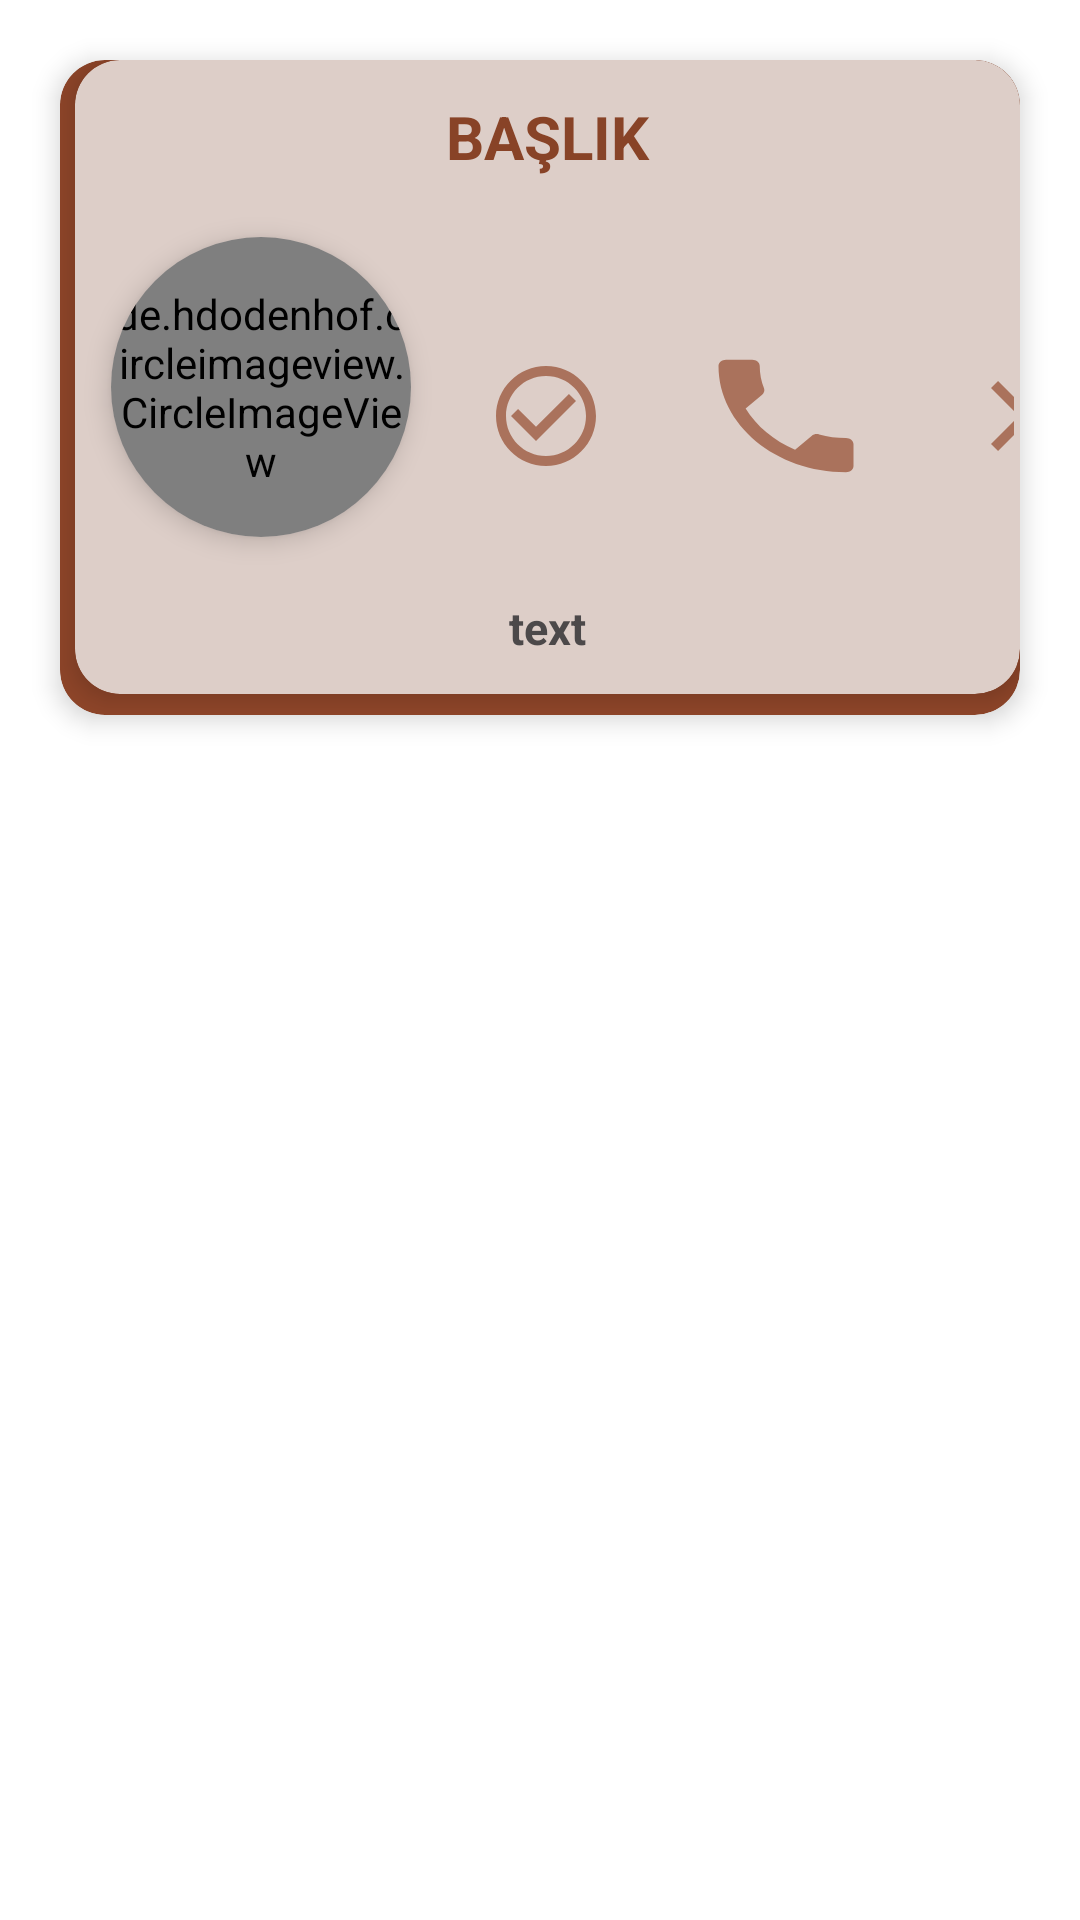

Screen size 1080 × 1920. Icon name, then its center in pixels as point (x, y):
check circle: point (546, 416)
local phone: point (786, 416)
